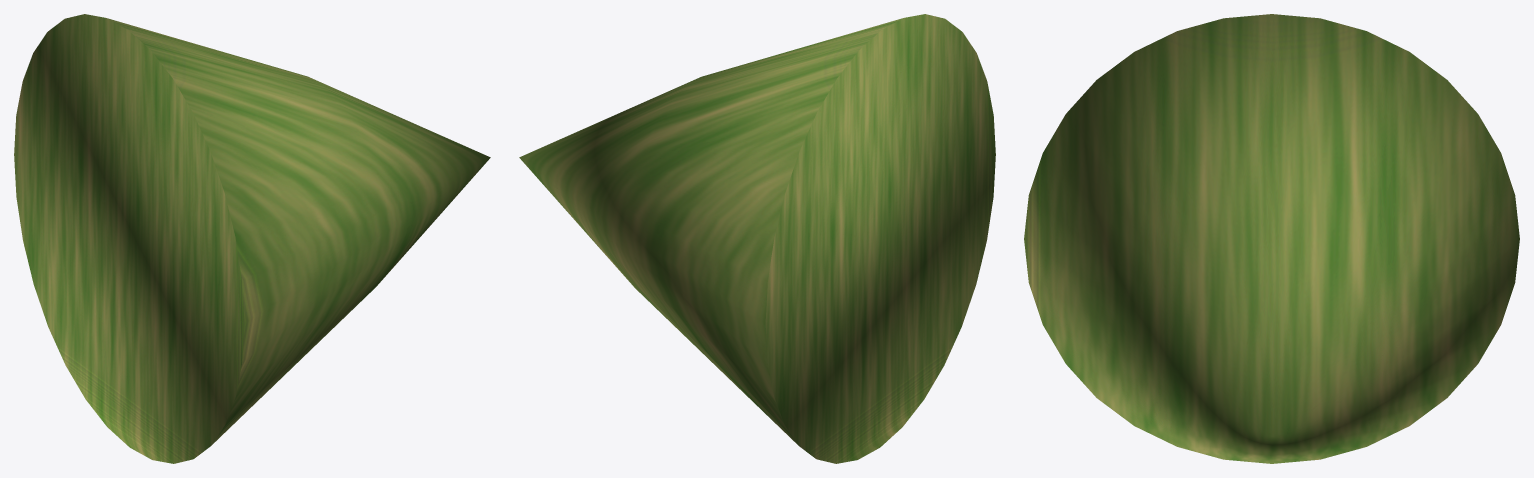
The model's file is Plant Shhoter Projectile.fbx.
The picture shows the model from 3 angles, left to right: view 1: azimuth 30°, elevation 25°; view 2: azimuth 150°, elevation 25°; view 3: azimuth 270°, elevation 25°; orthographic projection. The views are drawn at different scales.
Visible parts, largest first — view 1: Cone; view 2: Cone; view 3: Cone.
Boxes of the visible parts, bbox=[...] form: Cone: bbox=[14, 14, 490, 463]; Cone: bbox=[519, 14, 995, 463]; Cone: bbox=[1024, 14, 1519, 463].
Size of the model in its own units: 182 by 200 by 200.
Materials: 1 (1 with a texture image).
